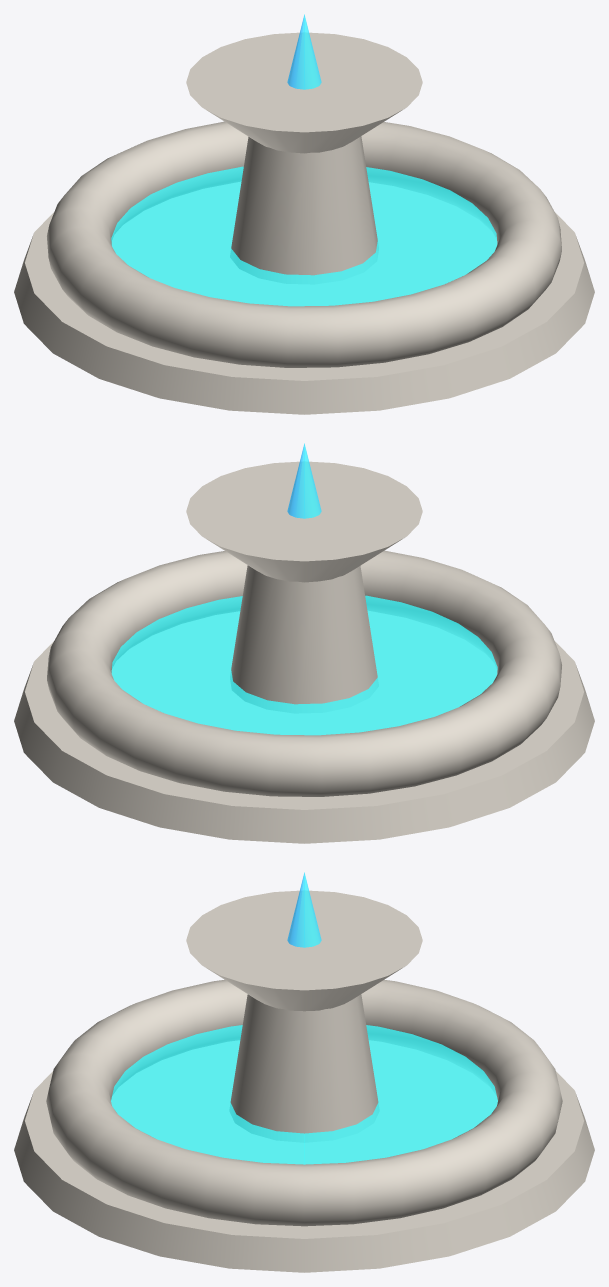
File: fountain.glb
3 views of the same model, one above another, from view 1: azimuth 30°, elevation 25°; view 2: azimuth 150°, elevation 25°; view 3: azimuth 270°, elevation 25° (orthographic).
Parts seen in each view (by area): view 1: fountain, fountain_water; view 2: fountain, fountain_water; view 3: fountain, fountain_water.
Boxes of the visible parts, left/top/right/bottom form: fountain: left=14, top=14, right=594, bottom=414; fountain_water: left=111, top=166, right=497, bottom=306; fountain: left=14, top=443, right=594, bottom=843; fountain_water: left=111, top=595, right=497, bottom=735; fountain: left=14, top=872, right=594, bottom=1272; fountain_water: left=111, top=1025, right=497, bottom=1164.
Size of the model in its own units: 2.7 by 1.43 by 2.7.
